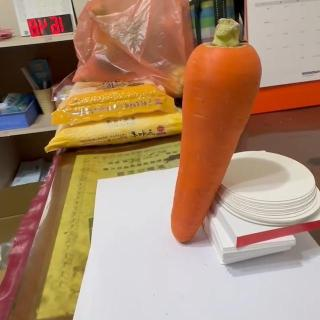carrot: (170, 17, 262, 245)
